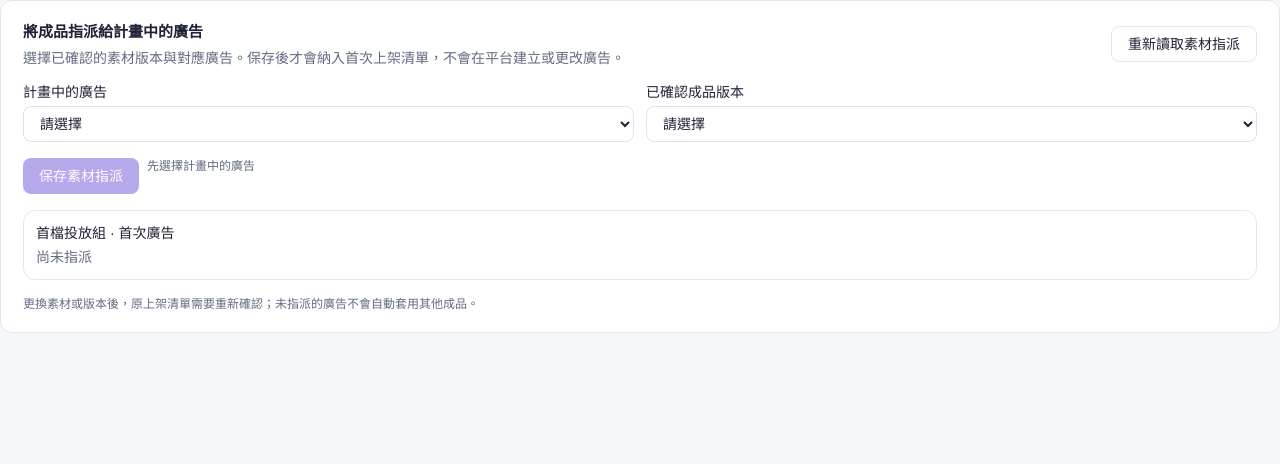
Test case: says the slot still waits when the placed version is not confirmed yet
Step 1. Select "首檔投放組 · 首次廣告" in the dropdown labelled "計畫中的廣告" → (328, 124), box [23, 106, 634, 142]
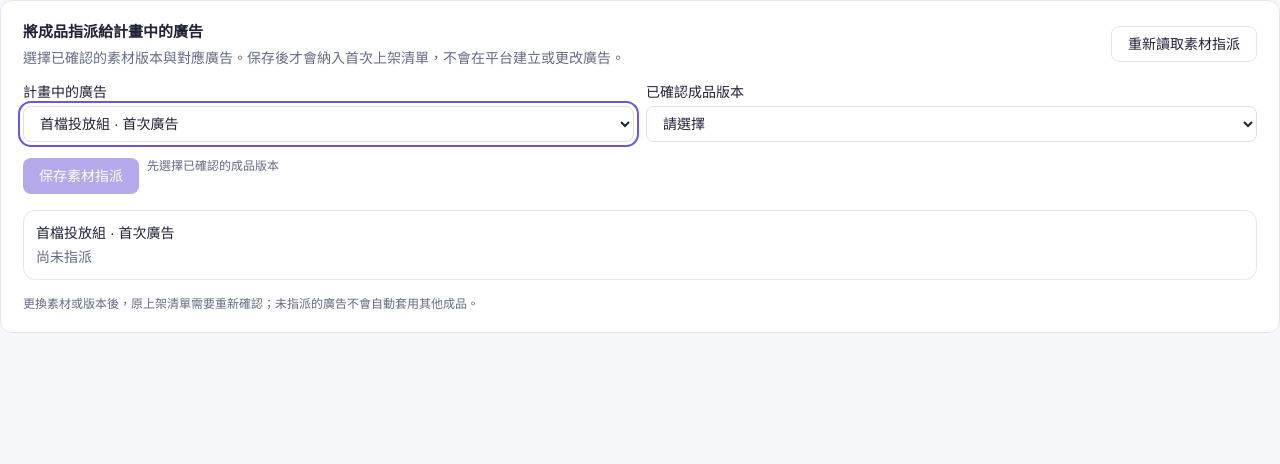
Step 2. Select "已完成素材.png · 版本 3" in the dropdown labelled "已確認成品版本" → (952, 124), box [646, 106, 1257, 142]
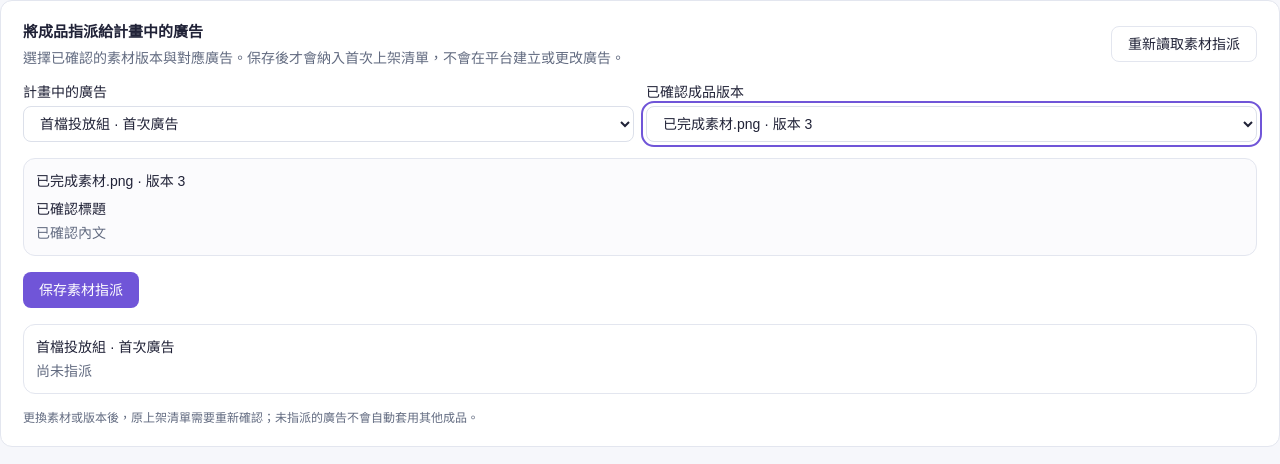
Step 3. Click the button "保存素材指派" → click(81, 290), box [23, 272, 139, 308]
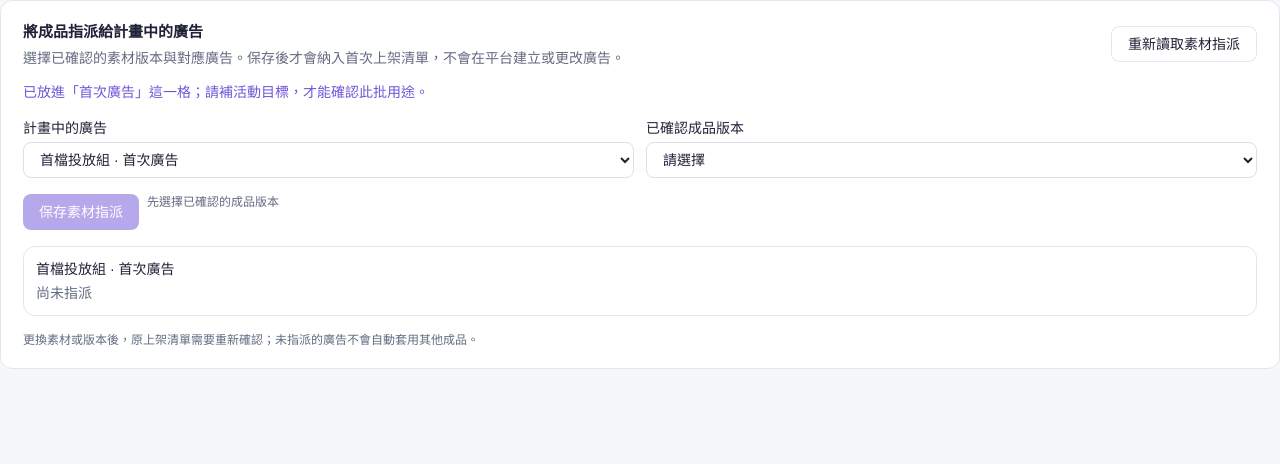
Expected: the text "尚未指派" is shown, [36, 284, 92, 300]
Result: the text "已放進「首次廣告」這一格；請補活動目標，才能確認此批用途。" is shown at [23, 84, 429, 100]
